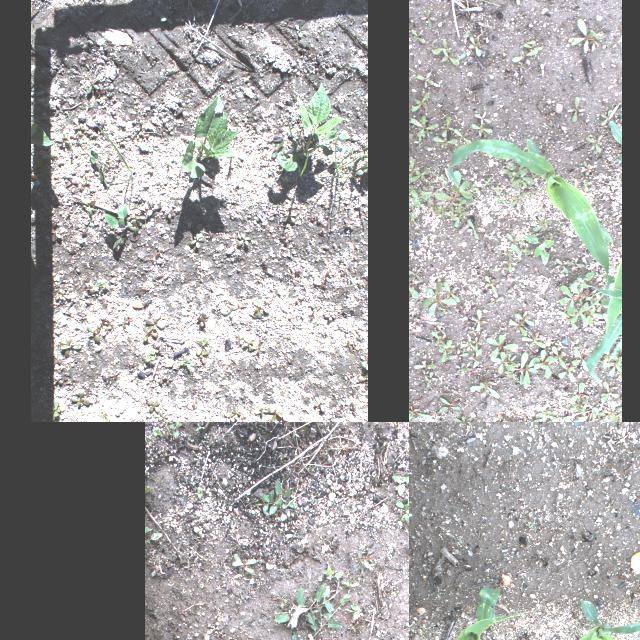crop: (447, 140, 616, 306), (276, 82, 348, 176), (432, 584, 530, 640), (580, 258, 622, 387), (180, 94, 242, 180), (532, 599, 640, 640), (30, 123, 51, 147), (610, 120, 622, 162), (86, 78, 100, 94)
weed: (92, 119, 134, 207), (271, 584, 335, 628), (311, 594, 363, 638), (434, 169, 474, 209), (102, 204, 138, 248), (259, 477, 299, 515), (559, 282, 599, 318), (569, 18, 605, 54), (334, 138, 366, 178), (422, 282, 456, 316), (512, 351, 540, 389), (524, 234, 554, 266), (486, 333, 520, 361), (535, 349, 559, 381), (468, 379, 500, 399), (409, 115, 439, 136), (570, 270, 596, 294), (490, 351, 516, 375), (566, 96, 588, 124), (90, 150, 106, 188), (594, 341, 620, 364), (511, 165, 535, 189), (581, 303, 605, 327), (556, 358, 578, 384), (393, 496, 409, 529), (572, 345, 590, 373), (409, 189, 433, 209), (231, 553, 255, 573), (511, 49, 539, 66), (60, 336, 82, 356), (410, 91, 430, 113), (509, 242, 531, 262), (570, 302, 590, 324), (438, 396, 460, 416), (600, 380, 620, 402), (390, 475, 409, 498), (442, 46, 461, 68), (437, 338, 453, 364), (466, 220, 486, 240), (575, 406, 600, 422), (453, 128, 475, 146), (568, 381, 586, 403), (473, 308, 489, 332), (550, 344, 566, 368), (320, 564, 344, 580), (444, 281, 461, 303), (600, 400, 617, 422), (418, 8, 436, 28), (432, 38, 452, 56), (410, 166, 430, 184), (560, 311, 578, 331), (515, 310, 535, 328), (508, 319, 528, 337), (430, 330, 448, 350), (585, 134, 603, 154), (409, 407, 433, 422), (602, 360, 622, 378), (440, 115, 456, 137), (470, 123, 494, 137), (416, 71, 434, 89), (473, 110, 493, 126), (504, 232, 520, 252), (482, 275, 498, 295), (146, 526, 162, 546), (521, 336, 547, 348), (468, 35, 482, 57), (503, 251, 517, 273), (125, 209, 144, 225), (409, 271, 420, 298), (54, 134, 72, 150), (142, 324, 158, 342), (410, 27, 426, 45), (498, 164, 516, 180), (493, 260, 511, 276), (554, 257, 570, 275), (459, 336, 477, 352), (421, 372, 439, 388), (568, 397, 584, 415), (256, 299, 270, 319), (532, 220, 552, 234), (448, 348, 468, 362), (600, 108, 614, 128), (267, 405, 283, 422), (509, 191, 526, 207), (568, 255, 584, 272), (432, 136, 458, 146), (426, 199, 442, 215), (50, 400, 64, 418), (82, 198, 96, 216), (272, 140, 286, 158), (86, 324, 100, 342), (146, 316, 164, 330), (197, 338, 211, 356), (71, 392, 89, 406), (452, 210, 466, 228), (534, 408, 558, 418), (147, 200, 161, 217), (167, 422, 181, 439), (531, 414, 560, 422), (238, 232, 252, 248), (54, 288, 70, 302), (536, 213, 550, 229), (454, 198, 468, 214), (580, 160, 594, 176), (545, 400, 561, 414), (472, 348, 482, 370), (160, 6, 172, 24), (409, 268, 423, 283), (523, 42, 543, 52), (409, 210, 418, 232), (414, 362, 436, 371), (295, 23, 309, 37), (190, 234, 204, 248), (454, 50, 468, 64), (509, 168, 523, 182), (577, 340, 591, 354), (454, 362, 470, 374), (194, 351, 208, 364), (444, 207, 458, 220), (519, 40, 537, 50), (486, 297, 504, 307), (546, 110, 556, 128), (582, 394, 592, 412), (507, 282, 518, 298), (421, 185, 434, 198), (93, 279, 107, 291), (146, 400, 160, 412), (242, 336, 254, 350), (434, 205, 446, 219), (433, 324, 447, 336), (560, 398, 572, 412), (150, 424, 162, 438), (250, 343, 266, 353), (315, 396, 325, 412), (413, 134, 423, 150), (596, 297, 606, 313), (472, 336, 482, 352), (409, 156, 415, 181), (180, 358, 192, 370), (546, 230, 558, 242), (598, 271, 610, 283), (455, 414, 473, 422), (144, 348, 154, 362), (50, 227, 60, 241), (284, 212, 298, 222), (197, 313, 207, 327), (438, 173, 448, 187), (420, 368, 430, 382), (582, 178, 592, 192), (343, 580, 359, 588), (74, 123, 84, 135), (358, 164, 368, 176), (280, 233, 292, 243), (324, 310, 336, 320), (481, 175, 491, 187), (467, 326, 479, 336), (504, 371, 516, 381), (507, 353, 517, 365), (504, 0, 523, 6), (38, 98, 52, 106), (120, 316, 128, 330), (524, 190, 538, 198), (472, 180, 480, 194), (564, 415, 580, 422), (224, 411, 234, 422), (427, 43, 438, 53), (232, 408, 242, 418), (452, 115, 462, 125), (494, 188, 504, 198), (499, 202, 509, 212), (409, 183, 419, 193), (495, 376, 505, 386), (166, 206, 174, 218), (517, 61, 525, 73), (538, 138, 546, 150), (567, 334, 575, 346), (602, 417, 621, 422), (158, 413, 168, 422), (148, 159, 154, 173), (255, 408, 269, 414), (295, 134, 305, 142), (83, 174, 91, 184), (224, 308, 232, 318), (236, 334, 244, 344), (163, 374, 171, 384), (500, 196, 508, 206), (232, 304, 245, 310), (158, 372, 164, 383), (119, 418, 135, 422), (482, 130, 490, 138), (98, 418, 113, 422), (358, 375, 368, 381), (492, 185, 502, 191), (52, 414, 58, 422), (362, 361, 368, 369), (512, 66, 518, 74), (518, 240, 526, 246), (533, 0, 547, 3), (422, 130, 432, 134), (629, 496, 635, 502), (608, 631, 614, 637), (313, 321, 319, 325), (438, 80, 440, 88), (530, 522, 534, 526), (547, 419, 552, 422), (610, 620, 614, 622)
